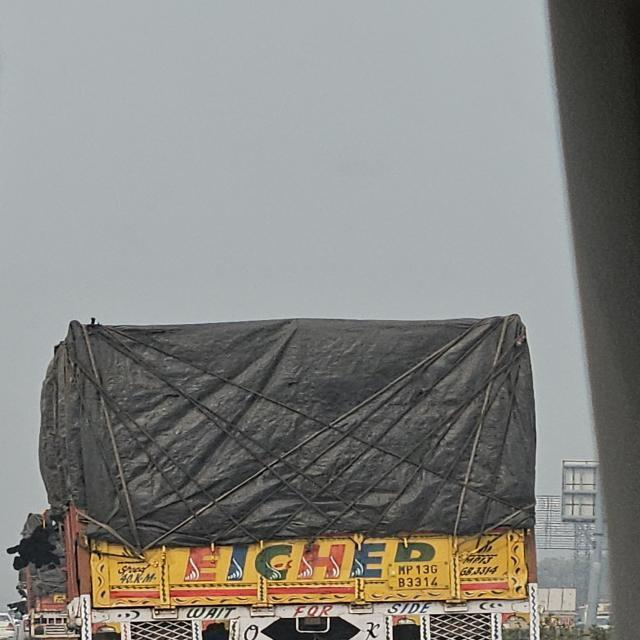covered: (45, 301, 558, 640)
